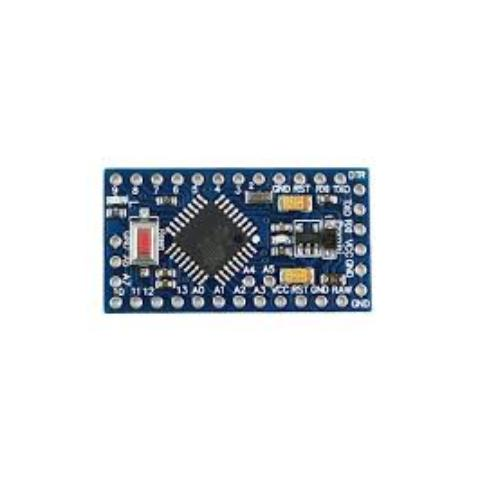Arduino-Pro-Mini: (90, 154, 380, 318)
